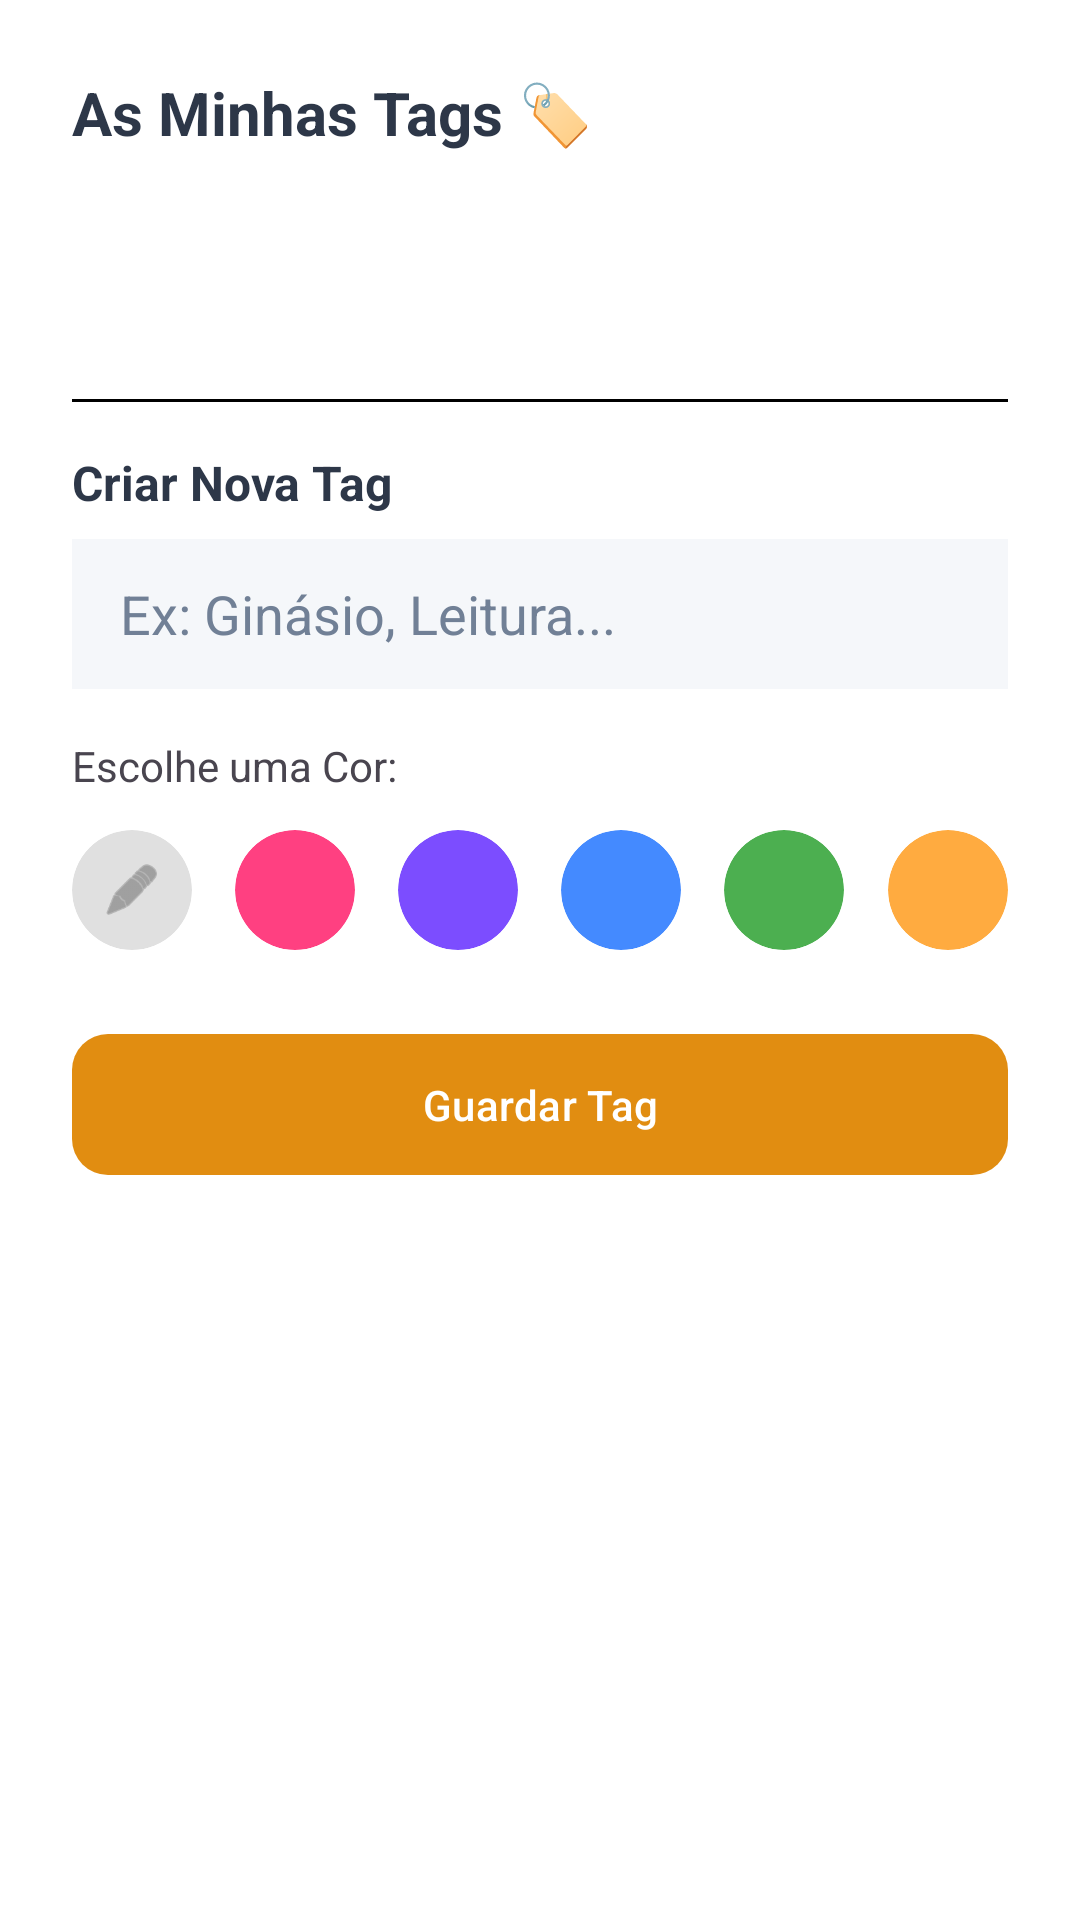

Screen size 1080w x 1920h. Icon name, then its center in pixels as (x,y):
edit: (132,889)
